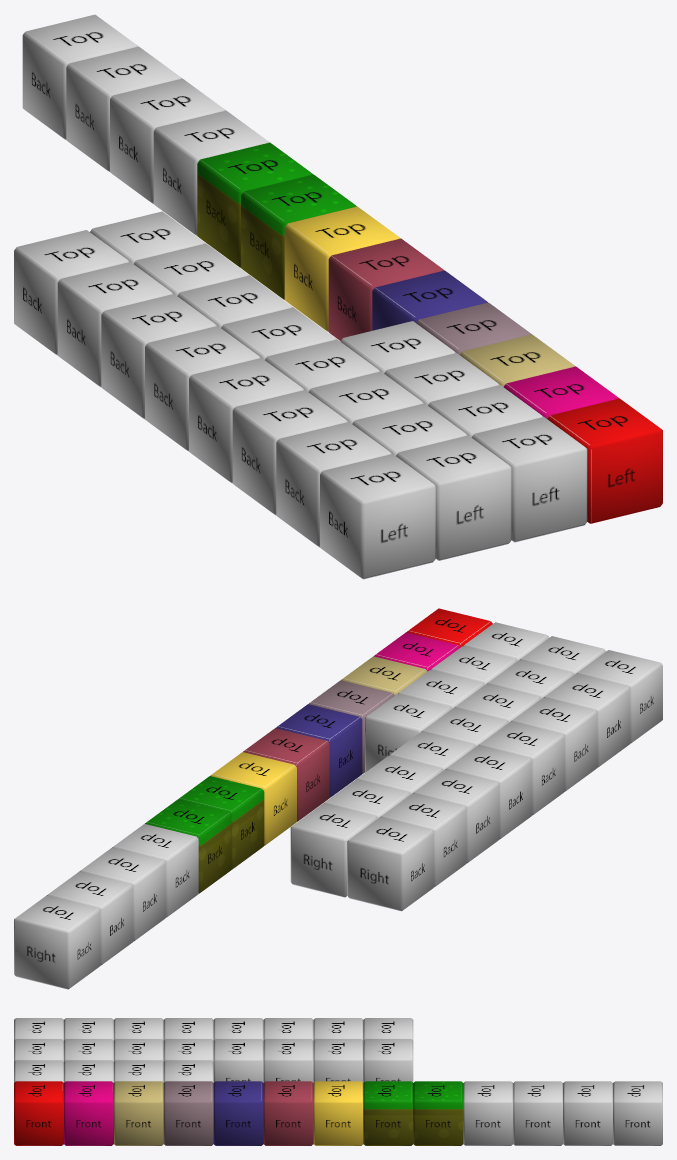
The model's file is blocks.obj.
3 views of the same model, one above another, from view 1: azimuth 30°, elevation 25°; view 2: azimuth 150°, elevation 25°; view 3: azimuth 270°, elevation 25° (orthographic). The views are drawn at different scales.
Parts seen in each view (by area): view 1: bGeneric8_Cube.037, bGeneric6_Cube.039, bGeneric17_Cube.028, bGeneric_Cube.010, bGeneric4_Cube.023, bFarm.001_Cube.040, bGeneric14_Cube.031, bAnimal_Cube.004, bGeneric9_Cube.036, bGeneric7_Cube.038, bGeneric3_Cube.024, bGeneric2_Cube.019 (+21 smaller); view 2: bGeneric2_Cube.019, bFarm.001_Cube.040, bBlank_Cube.025, bGeneric5_Cube.022, bFarm_Cube.003, bGeneric3_Cube.024, bGeneric10_Cube.035, bGeneric19_Cube.042, bRetail_Cube.009, bFarm.002_Cube.001, bAnimal_Cube.004, bGeneric14_Cube.031 (+21 smaller); view 3: bTransport_Cube.005, bRetail_Cube.009, bGeneric14_Cube.031, bFarm.002_Cube.001, bFarm_Cube.003, bProcessing_Cube.008, bAnimal_Cube.004, bPlastic_Cube.007, bGeneric_Cube.010, bGeneric19_Cube.042, bFarm.001_Cube.040, bLand_Cube.006 (+21 smaller).
Boxes of the visible parts, x1,y1,x2,y2 form: bGeneric8_Cube.037: (320,454,435,579); bGeneric6_Cube.039: (471,417,587,542); bGeneric17_Cube.028: (396,435,511,560); bGeneric_Cube.010: (547,398,662,523); bGeneric4_Cube.023: (57,262,173,387); bFarm.001_Cube.040: (22,14,138,139); bGeneric14_Cube.031: (153,110,269,235); bAnimal_Cube.004: (284,206,400,331); bGeneric9_Cube.036: (232,390,348,515); bGeneric7_Cube.038: (189,358,304,483); bGeneric3_Cube.024: (145,326,260,451); bGeneric2_Cube.019: (14,230,129,355); bGeneric2_Cube.019: (347,817,433,911); bFarm.001_Cube.040: (14,895,100,989); bBlank_Cube.025: (290,803,376,897); bGeneric5_Cube.022: (413,769,499,863); bFarm_Cube.003: (177,776,264,869); bGeneric3_Cube.024: (445,745,532,839); bGeneric10_Cube.035: (543,674,630,767); bGeneric19_Cube.042: (47,871,133,965); bRetail_Cube.009: (276,704,362,797); bFarm.002_Cube.001: (145,800,231,893); bAnimal_Cube.004: (210,752,296,845); bGeneric14_Cube.031: (112,824,198,917); bTransport_Cube.005: (163,1081,213,1145); bRetail_Cube.009: (213,1081,263,1145); bGeneric14_Cube.031: (463,1081,513,1145); bFarm.002_Cube.001: (413,1081,463,1145); bFarm_Cube.003: (363,1081,413,1145); bProcessing_Cube.008: (263,1081,313,1145); bAnimal_Cube.004: (313,1081,363,1145); bPlastic_Cube.007: (64,1081,113,1145); bGeneric_Cube.010: (14,1081,63,1145); bGeneric19_Cube.042: (563,1081,612,1145); bFarm.001_Cube.040: (613,1081,662,1145); bLand_Cube.006: (114,1081,163,1145).
Bounding box in the file's own units: 4 × 1 × 13.
2 materials, 2 textured.
